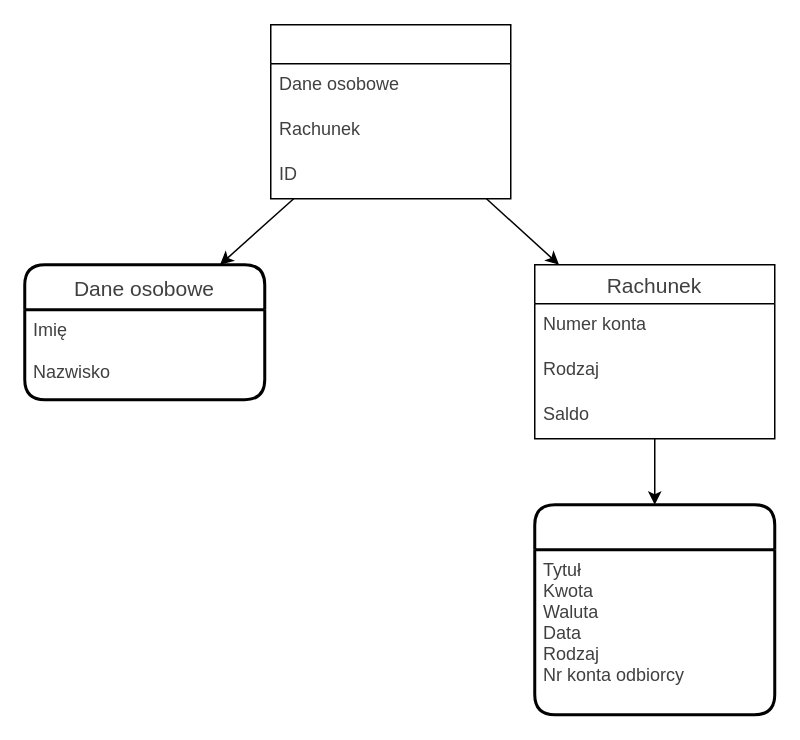
The diagram is 800 pixels wide and 740 high, and some of its shapes have lost their labels. Here are the shapes that lost their labels. From the top down, the box of each, then its label:
(269, 23, 511, 199): Klient
(532, 502, 776, 716): Przelew
